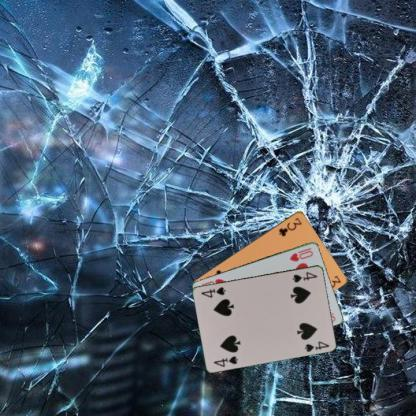10h: (287, 244, 314, 262)
3c: (276, 214, 303, 237)
4s: (210, 353, 240, 368), (289, 269, 318, 284)
